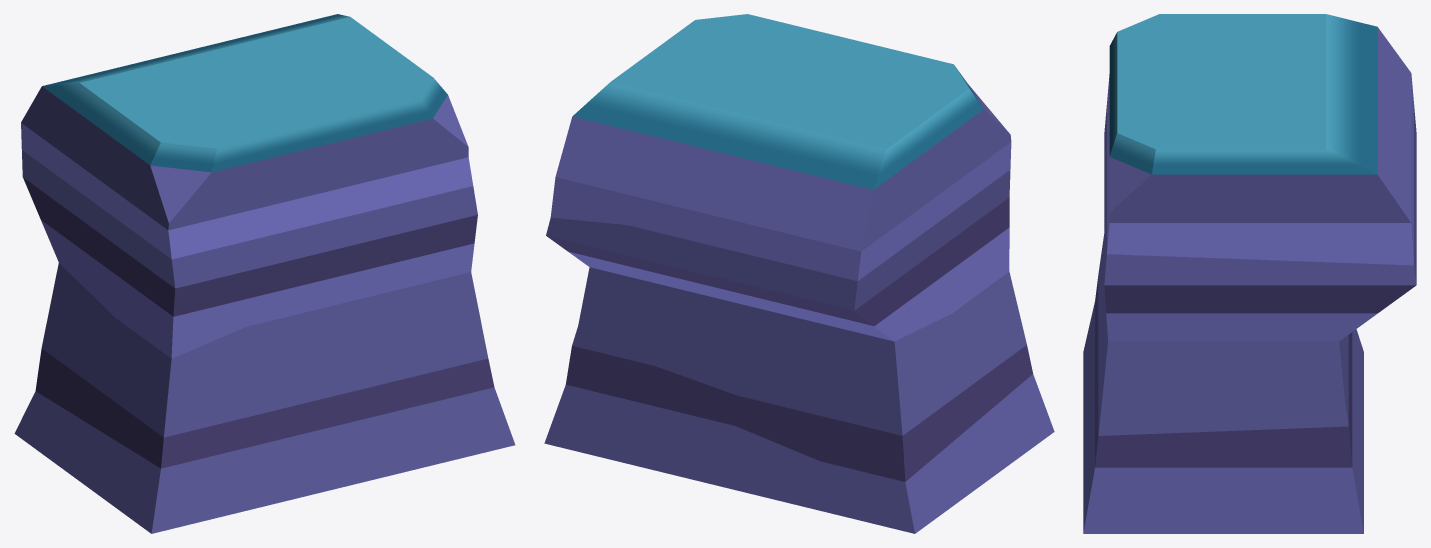
File: StoneWall012.fbx
The picture shows the model from 3 angles, left to right: view 1: azimuth 30°, elevation 25°; view 2: azimuth 150°, elevation 25°; view 3: azimuth 270°, elevation 25°; orthographic projection. The views are drawn at different scales.
Visible parts, largest first — view 1: StoneWall012; view 2: StoneWall012; view 3: StoneWall012.
Boxes of the visible parts, bbox=[...] form: StoneWall012: bbox=[14, 14, 515, 533]; StoneWall012: bbox=[544, 14, 1054, 533]; StoneWall012: bbox=[1083, 14, 1416, 533].
Size of the model in its own units: 482 by 446 by 373.
